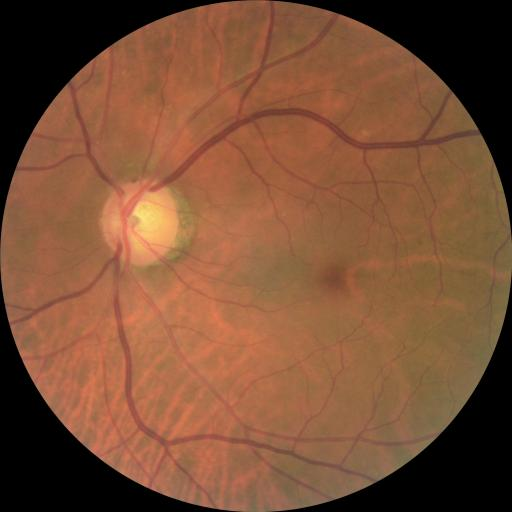Optic Cup: (126, 203, 165, 245)
Optic Disc: (98, 178, 178, 267)
